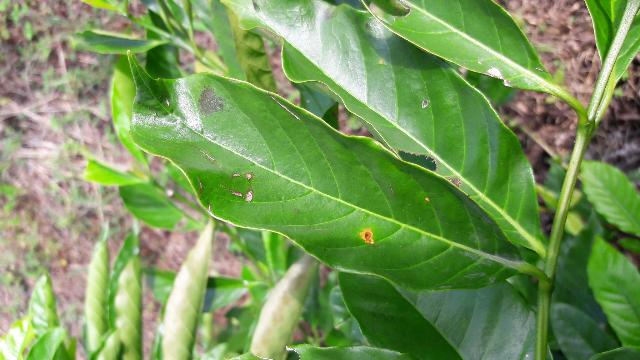red_spider_mite: (127, 52, 521, 291)
